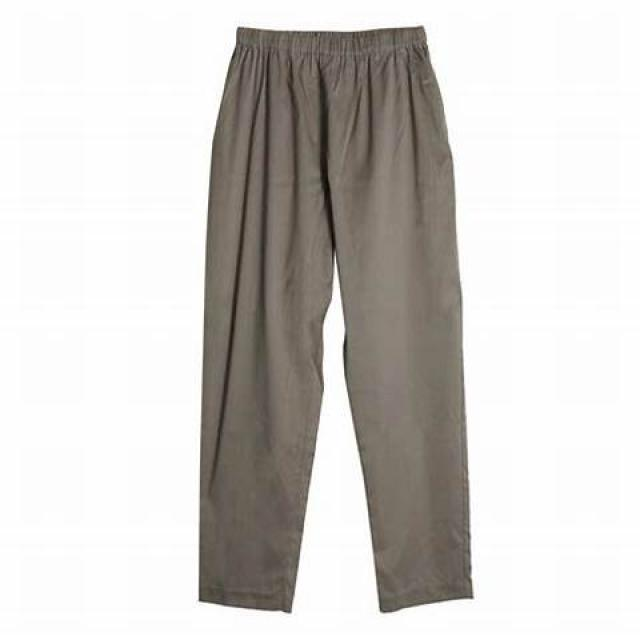long-pants: (195, 23, 475, 614)
